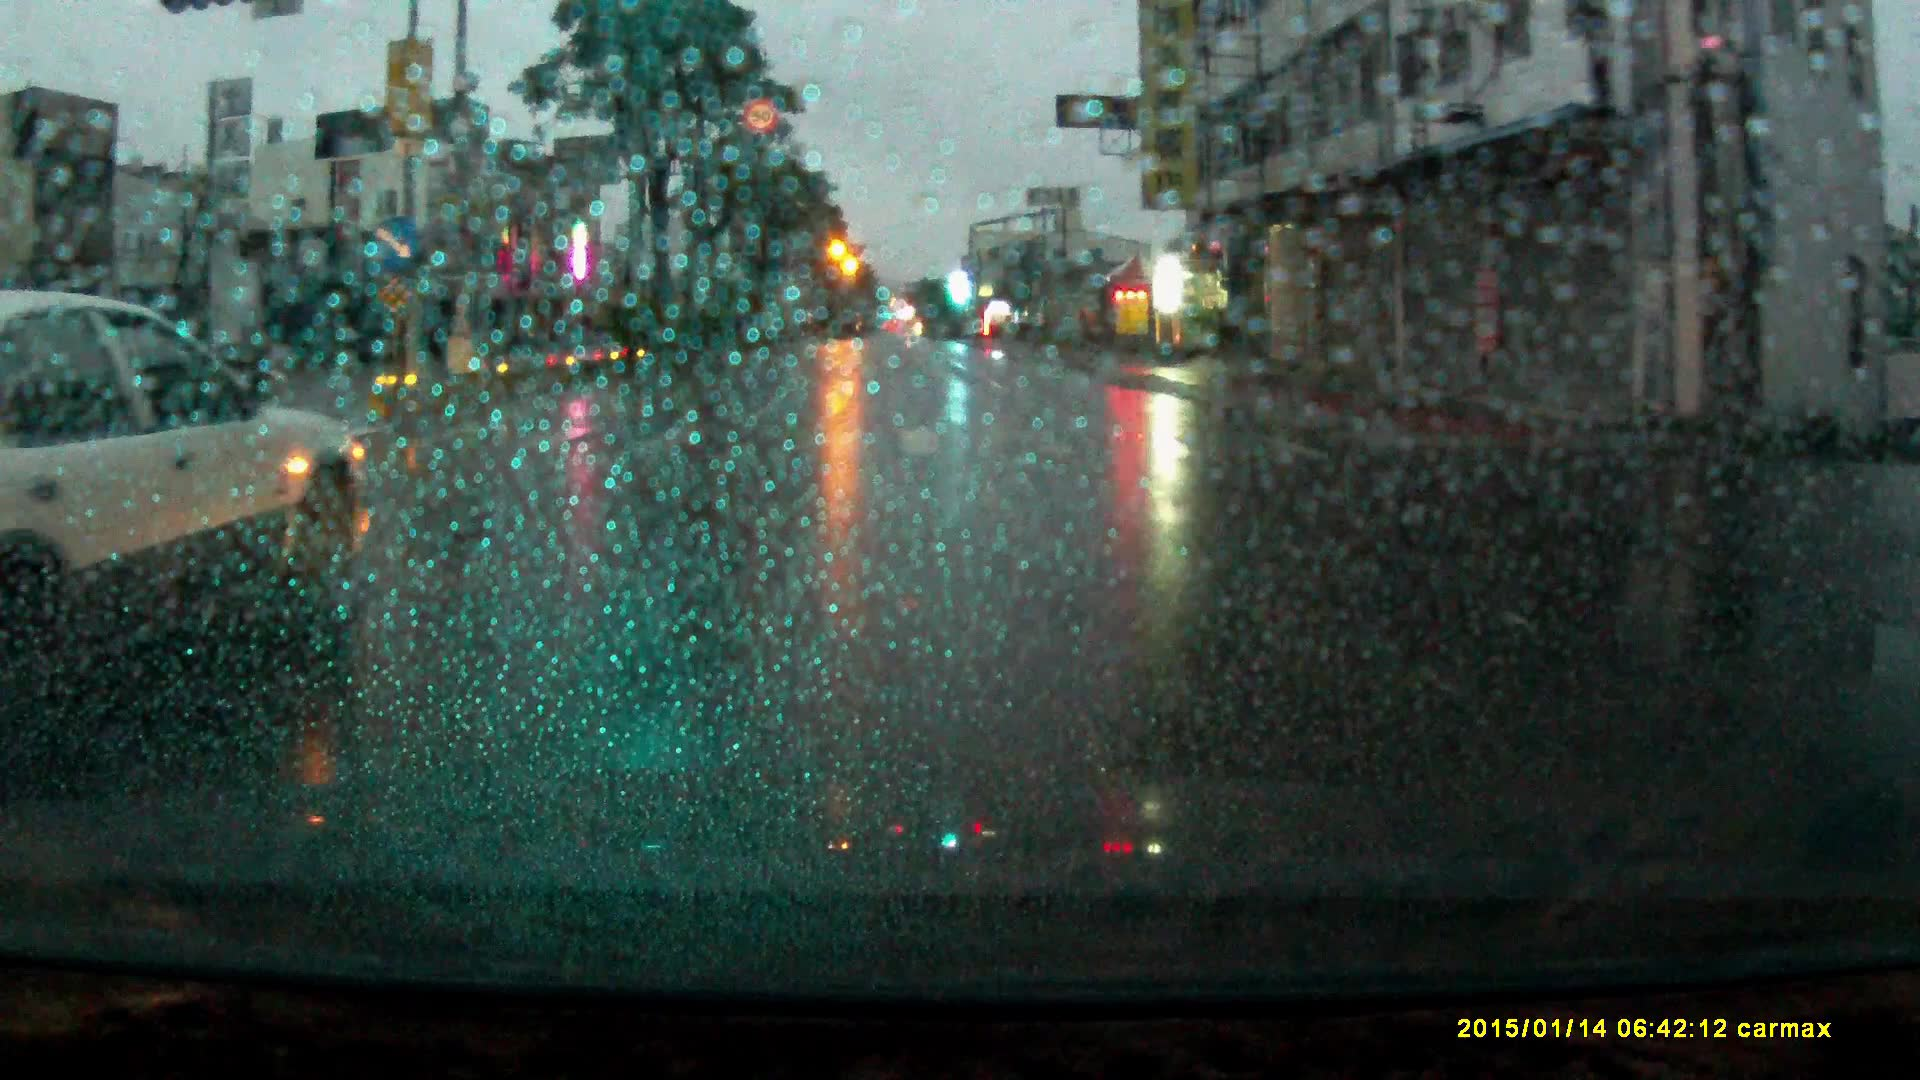vehicle: (1, 284, 377, 663)
